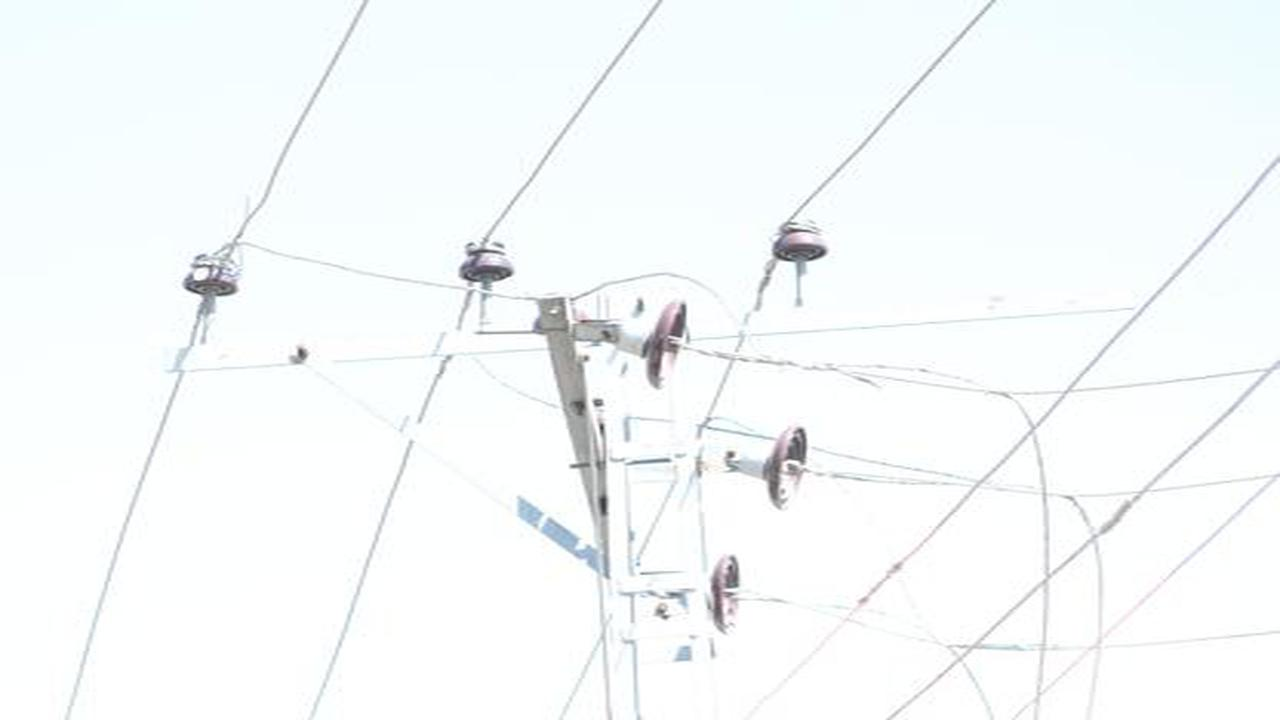defect_pin: (182, 248, 243, 302)
insulator_disc: (625, 297, 693, 392), (744, 424, 808, 512), (702, 558, 744, 634)
insulator_pin: (769, 215, 830, 268), (456, 237, 516, 289)
